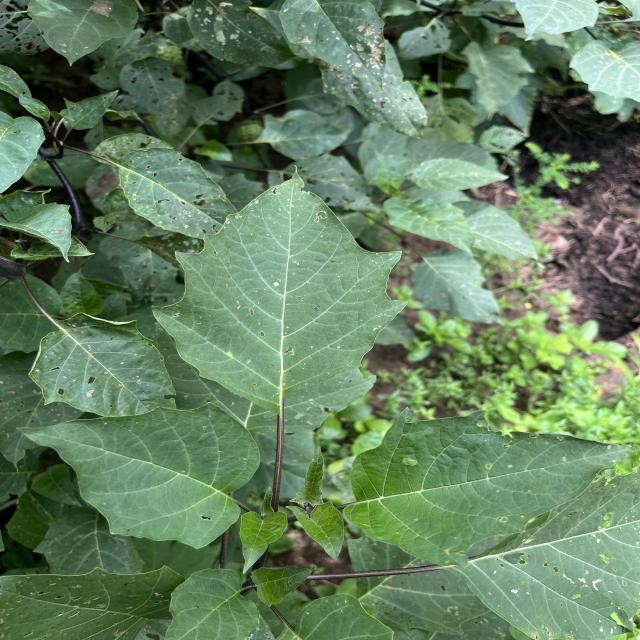Datura metal linn: (149, 159, 414, 421), (340, 404, 637, 570), (12, 399, 264, 552), (284, 498, 347, 563), (238, 509, 289, 576)
